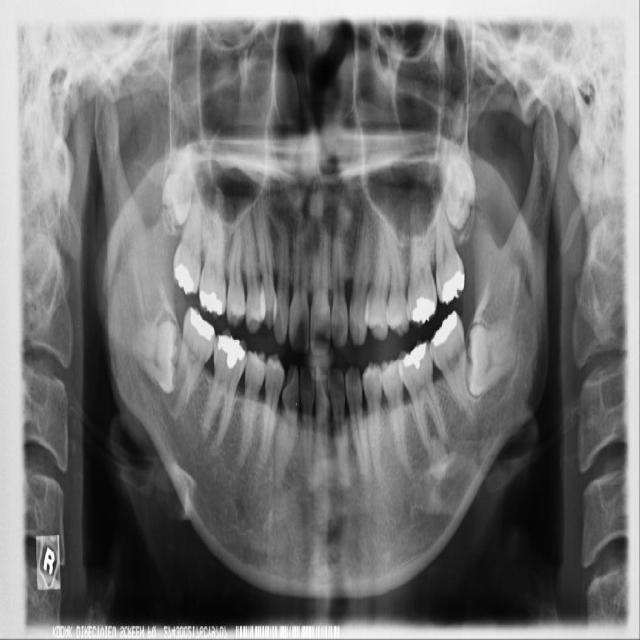3M ESPE Implant: (155, 135, 208, 228)
52: (420, 309, 477, 375), (389, 335, 447, 392), (174, 302, 226, 365), (405, 273, 439, 327), (213, 328, 248, 380), (170, 243, 203, 296), (198, 264, 228, 320), (435, 257, 465, 304)
73: (624, 610, 630, 615)
BioHorizons Implant: (429, 183, 466, 306)
BioLife Implant: (424, 130, 490, 232)
Biomet 3i Implant: (467, 319, 517, 397)
Blue Sky Bio Implant: (425, 309, 476, 421)
Caries: (170, 176, 209, 296)
Implant: (167, 305, 222, 417)
Keystone Dental Implant: (130, 321, 183, 396)
